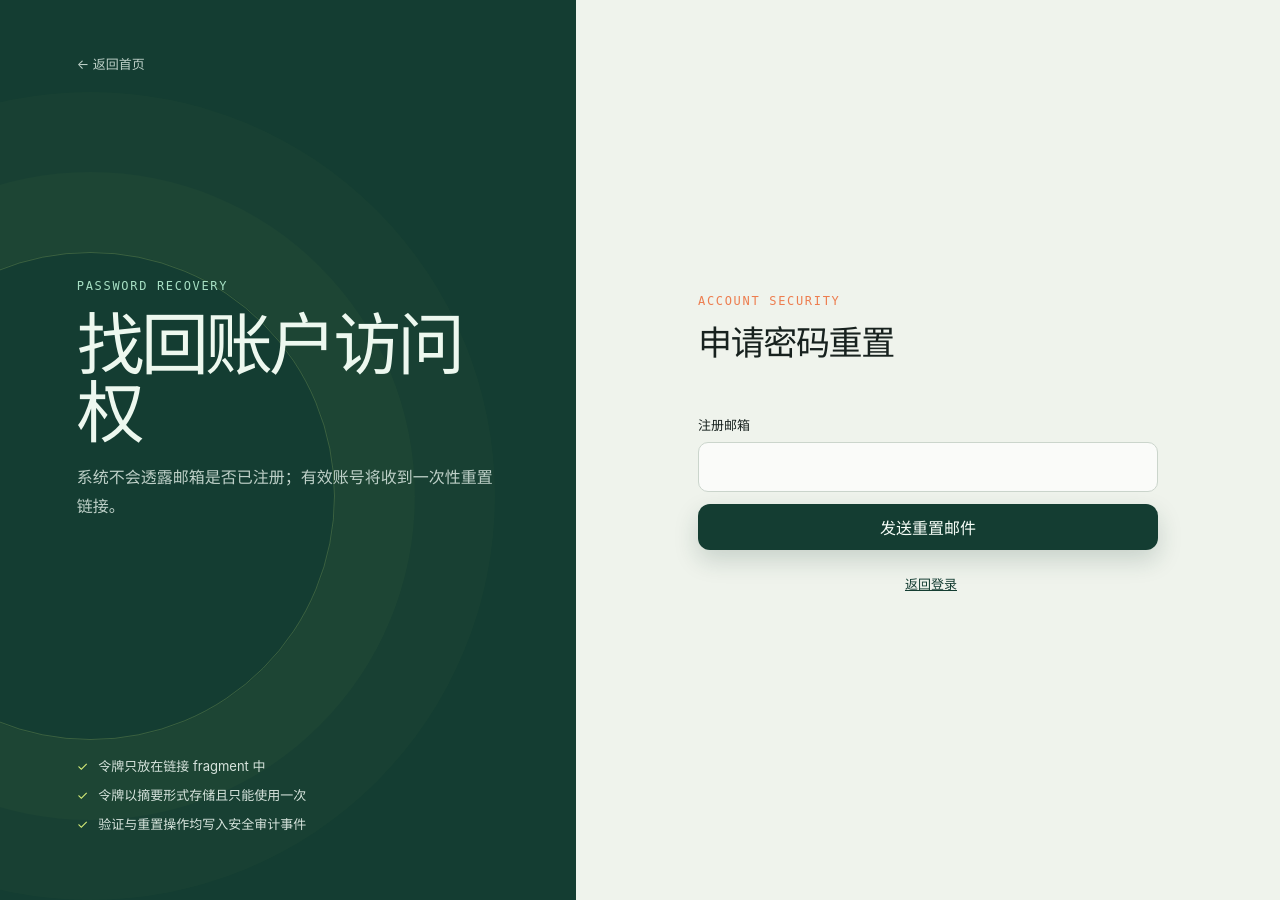
Scenario: application authentication routes › shows a generic result after requesting a password reset
Type "learner@example.com" into the field labelled "注册邮箱" at (928, 467), box x1=698 y1=442 x2=1158 y2=492
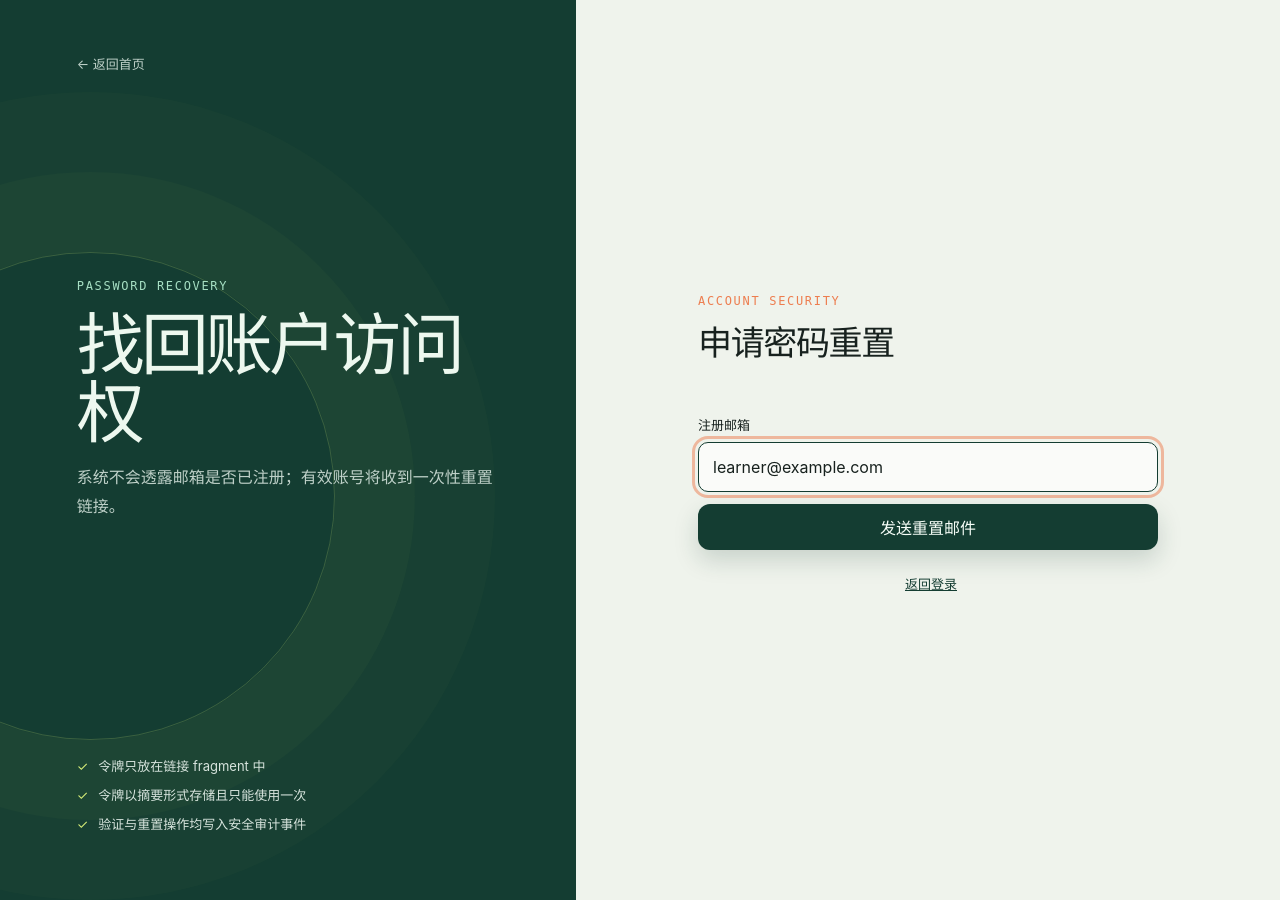
Click the button "发送重置邮件" at (928, 527), box x1=698 y1=504 x2=1158 y2=550
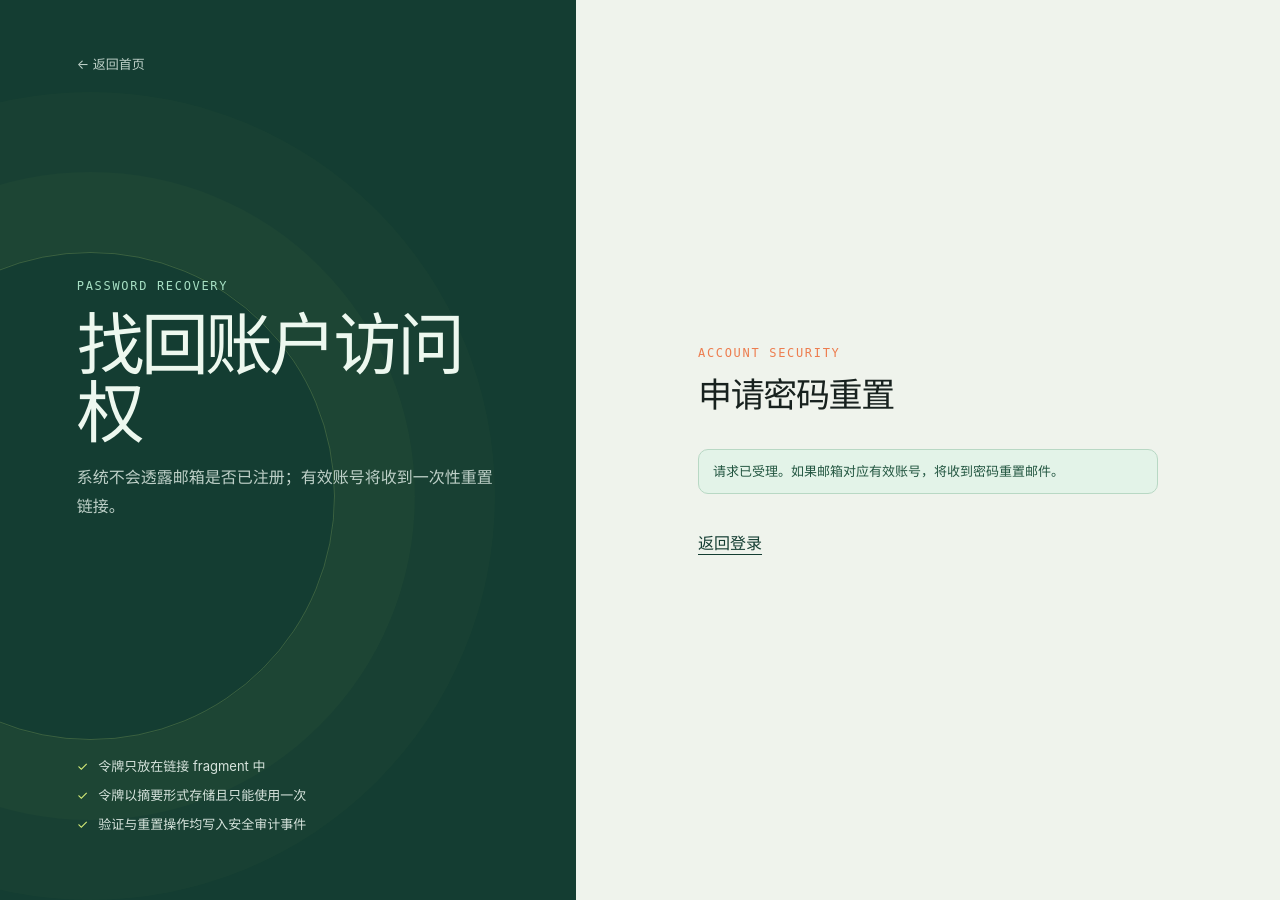
Now the message shows "如果邮箱对应有效账号，将收到密码重置邮件", box x1=713 y1=463 x2=1064 y2=479
